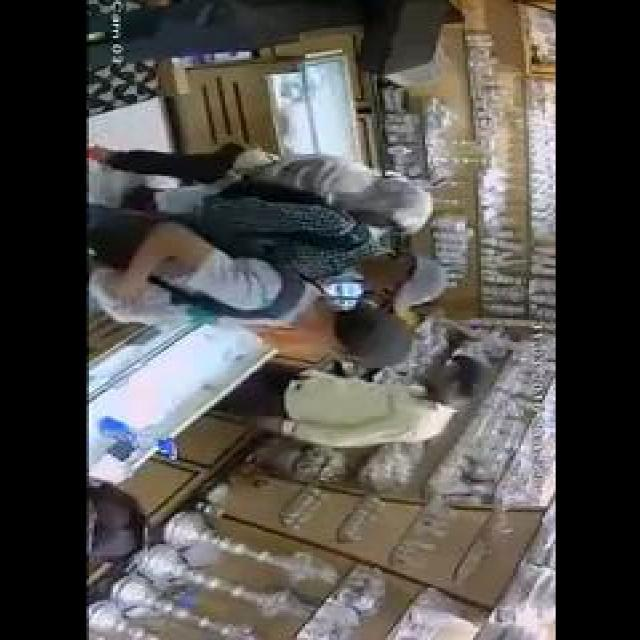Shoplifting: (91, 142, 487, 397)
